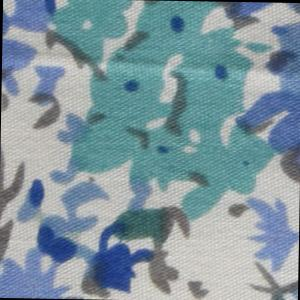Wrinkle: (2, 36, 300, 98)
